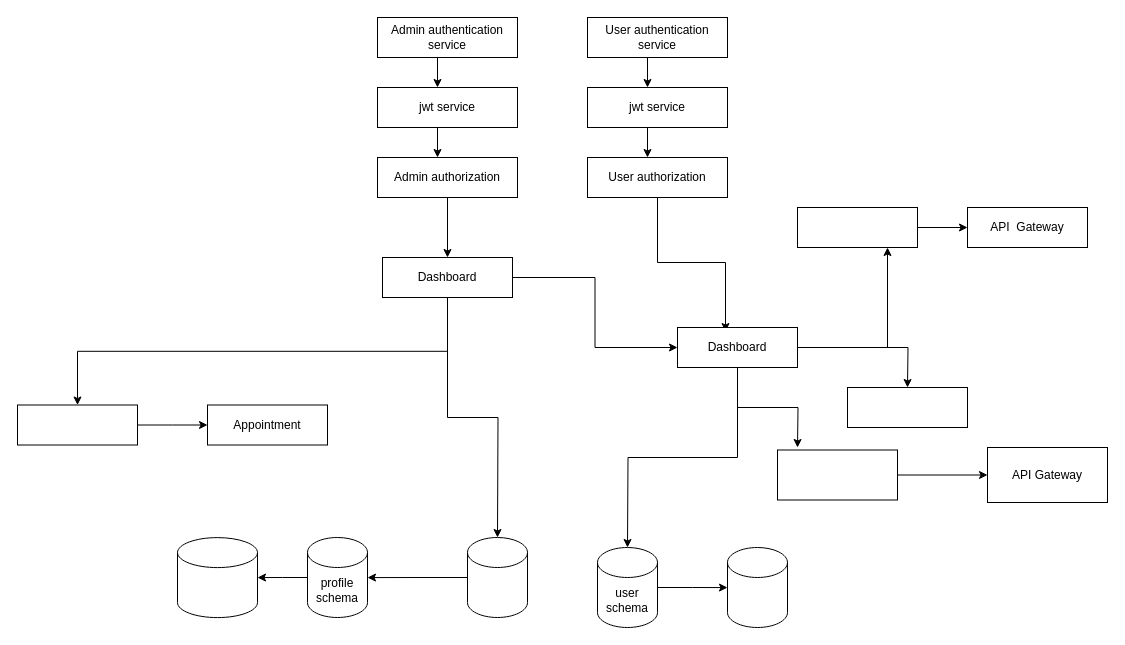
This 1125x645 diagram has some shape labels left out. The shapes that lost their labels are listed below. From the top down, each one's centre as x and y in pixels, then its label:
the point at 857,227: reCAPTCHA Service
the point at 77,424: sup-admin Profile
the point at 907,407: Feedback
the point at 837,474: Payment service
the point at 217,577: appointment schema
the point at 497,577: admin schema
the point at 757,587: feedback schema
